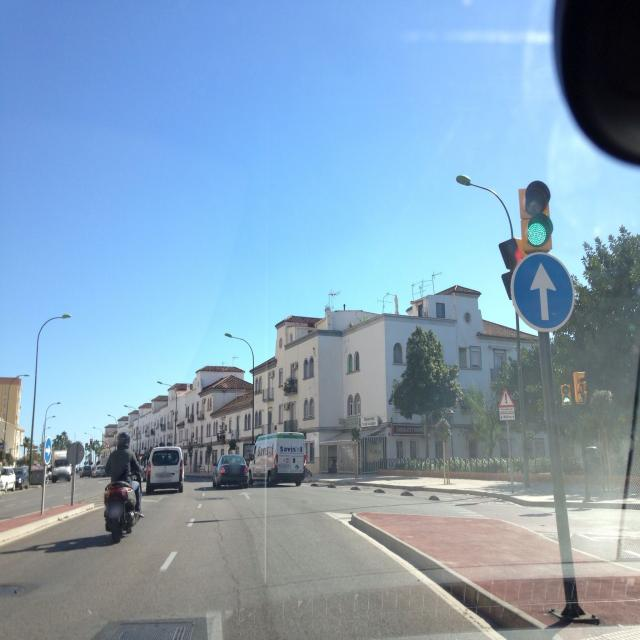bike: (103, 461, 142, 544)
car: (145, 445, 184, 495), (212, 453, 249, 489), (50, 455, 72, 483), (0, 466, 17, 492), (14, 466, 30, 489), (29, 466, 45, 486), (93, 463, 106, 478), (80, 464, 93, 478)
